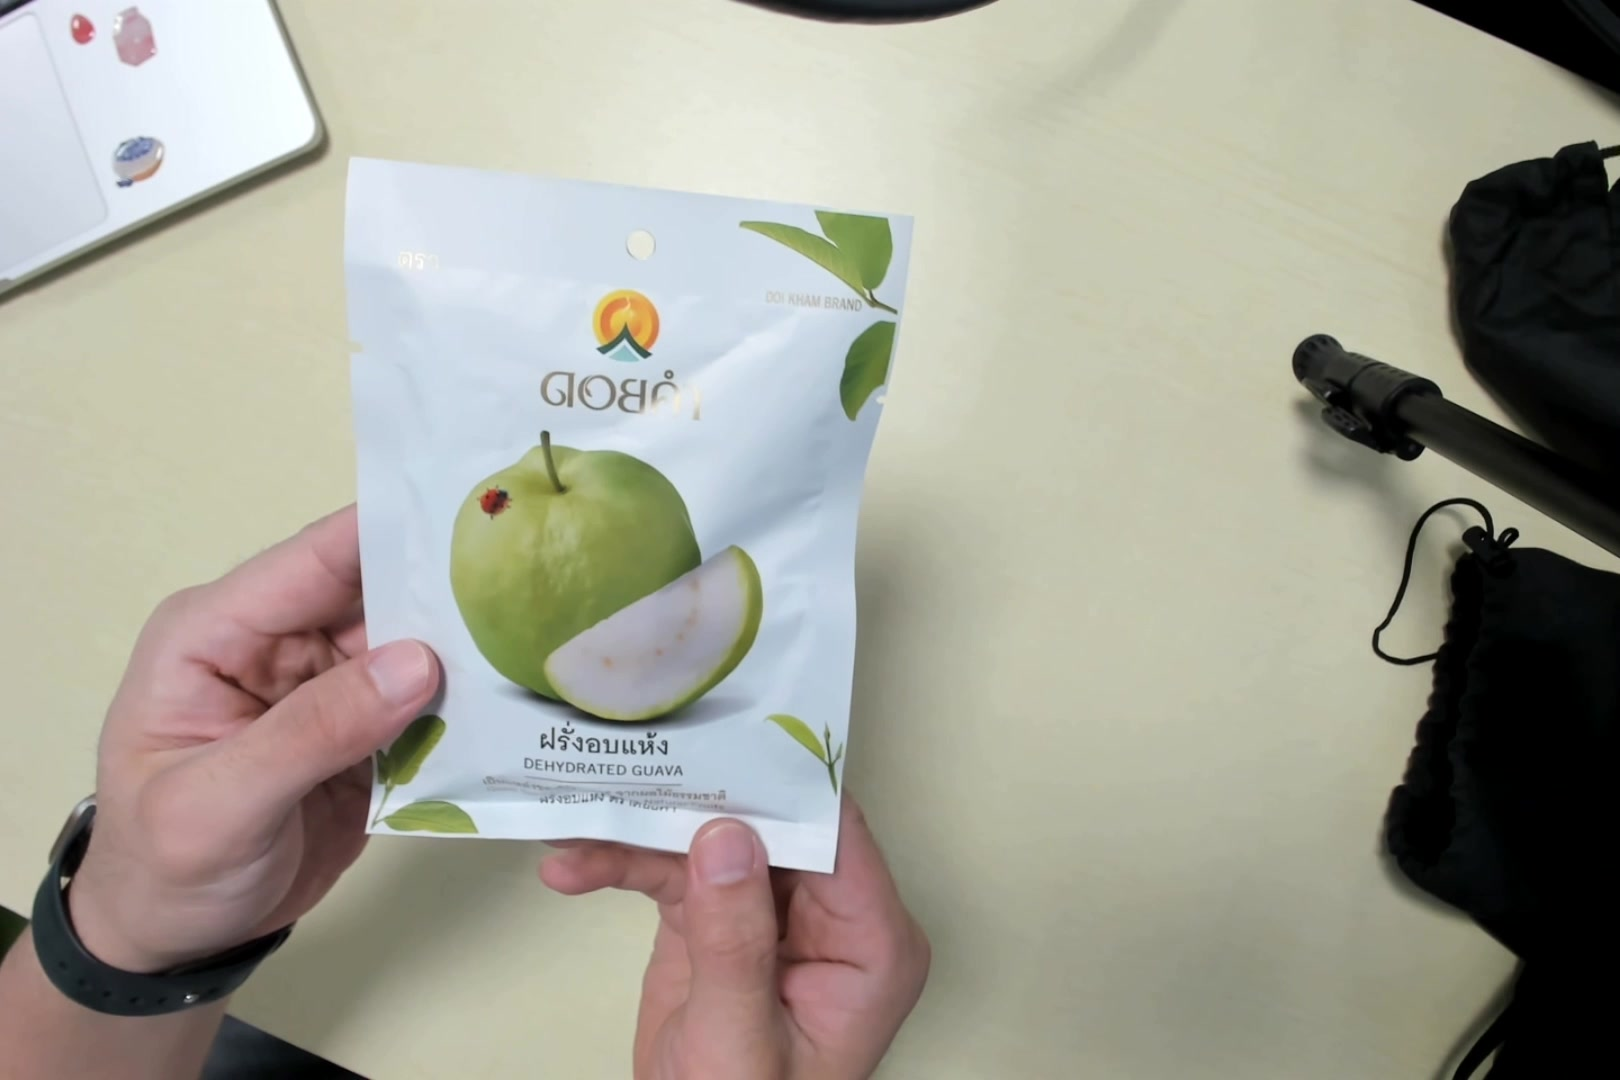DriedFruits_0-99g_Halal_NonHealthy: (348, 166, 858, 881)
